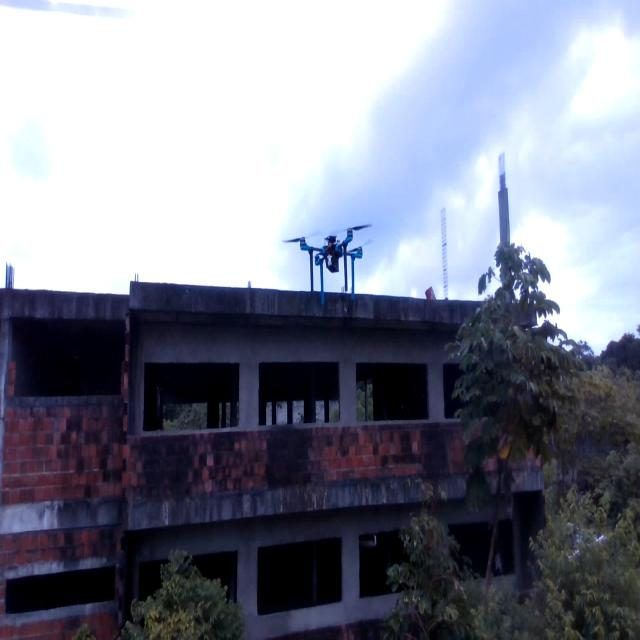-uav-: (284, 220, 382, 328)
